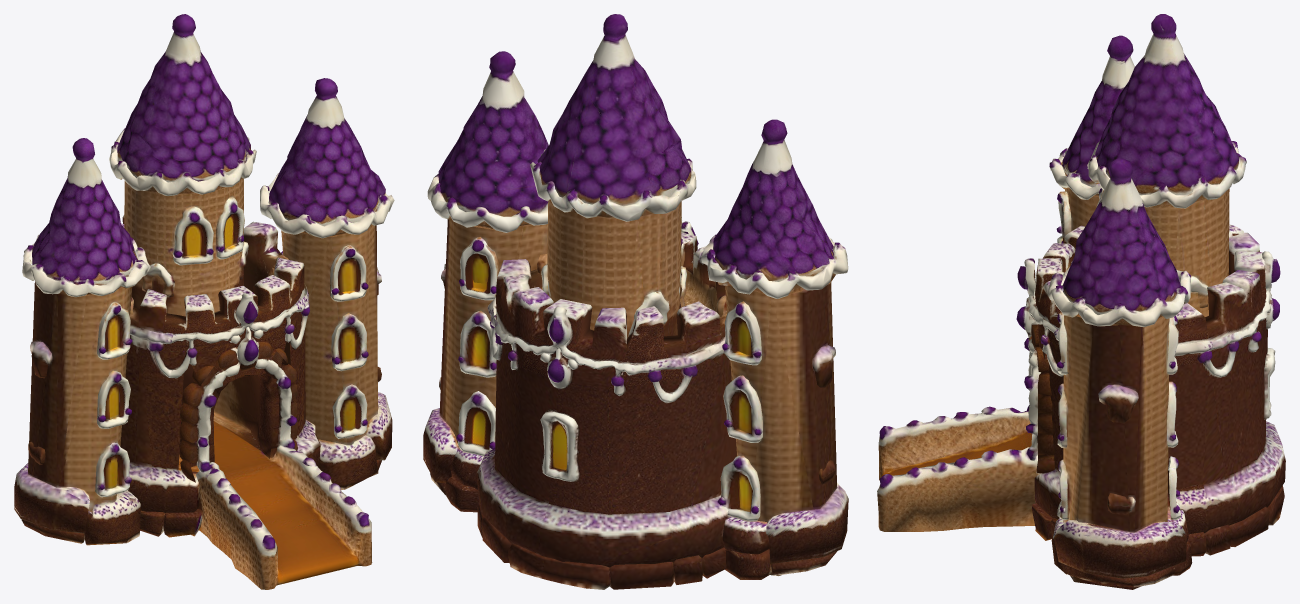
Rendered from AW-HW-CASTLE-001-v0.2.glb.
3 views of the same model, side by side, from view 1: azimuth 30°, elevation 25°; view 2: azimuth 150°, elevation 25°; view 3: azimuth 270°, elevation 25° (orthographic). The views are drawn at different scales.
Visible parts, largest first — view 1: AW-HW-CASTLE-001_meter_ground_pivot; view 2: AW-HW-CASTLE-001_meter_ground_pivot; view 3: AW-HW-CASTLE-001_meter_ground_pivot.
Boxes of the visible parts, x1,y1,x2,y2 form: AW-HW-CASTLE-001_meter_ground_pivot: [14, 14, 394, 589]; AW-HW-CASTLE-001_meter_ground_pivot: [423, 14, 848, 589]; AW-HW-CASTLE-001_meter_ground_pivot: [877, 14, 1285, 589].
Bounding box in the file's own units: 9.9 × 12 × 9.09.
1 material, 1 textured.
